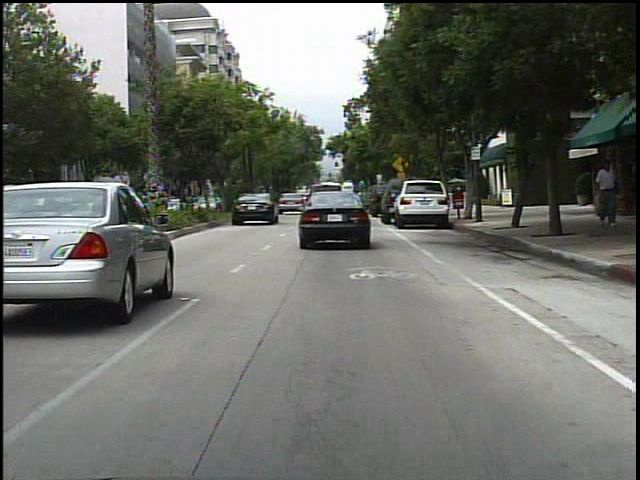person: (589, 159, 618, 231)
